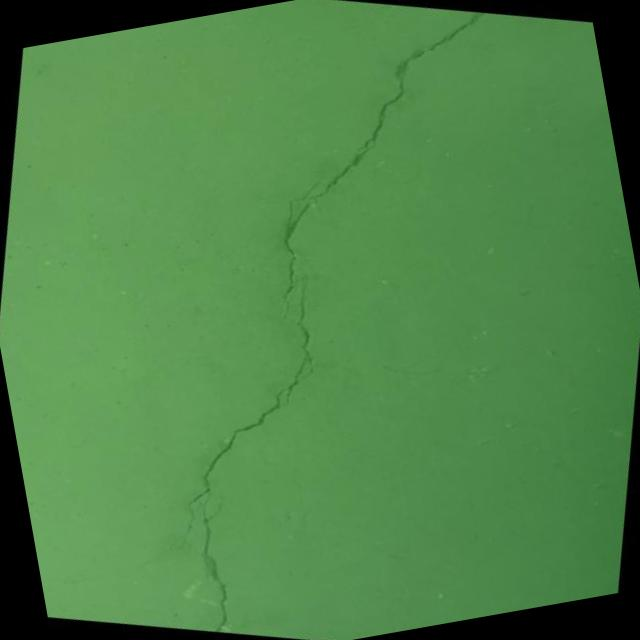crack: (117, 267, 377, 640), (280, 0, 517, 237), (252, 175, 342, 328)
